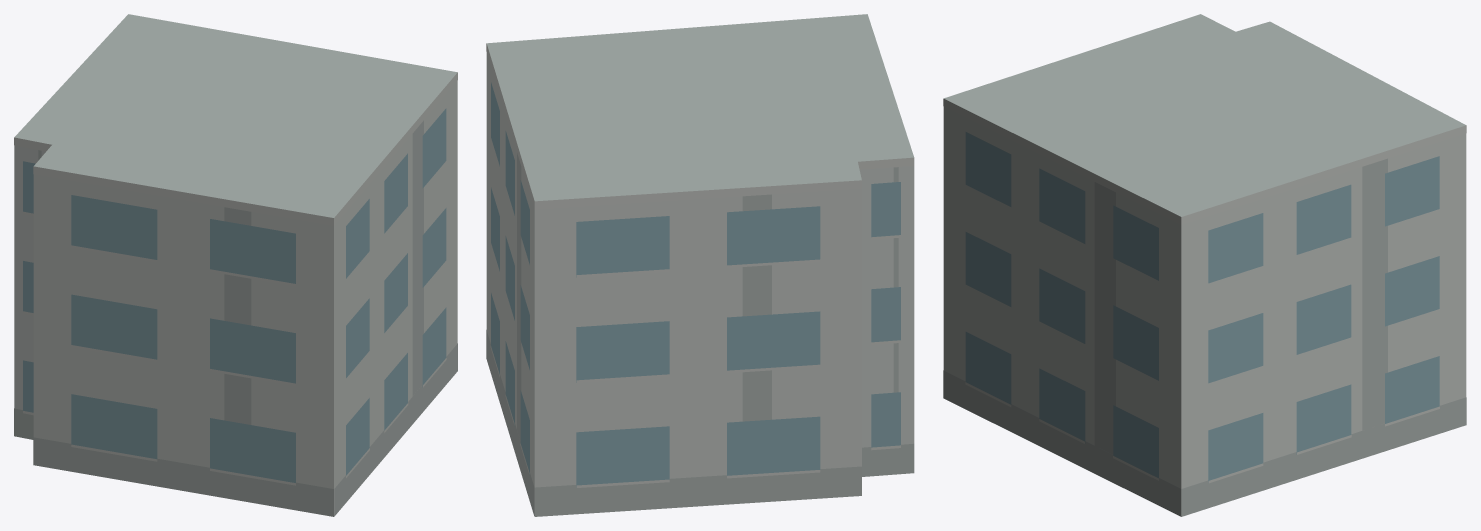
The model's file is residential-dbddb7b7-c1d4-468e-8ab3-2cfdf37b1fc1.glb.
The picture shows the model from 3 angles, left to right: view 1: azimuth 30°, elevation 25°; view 2: azimuth 150°, elevation 25°; view 3: azimuth 270°, elevation 25°; orthographic projection. The views are drawn at different scales.
Parts seen in each view (by area): view 1: residential-dbddb7b7-c1d4-468e-8ab3-2cfdf37b1fc1.tmp; view 2: residential-dbddb7b7-c1d4-468e-8ab3-2cfdf37b1fc1.tmp; view 3: residential-dbddb7b7-c1d4-468e-8ab3-2cfdf37b1fc1.tmp.
Boxes of the visible parts, x1,y1,x2,y2 form: residential-dbddb7b7-c1d4-468e-8ab3-2cfdf37b1fc1.tmp: [14, 14, 457, 516]; residential-dbddb7b7-c1d4-468e-8ab3-2cfdf37b1fc1.tmp: [486, 14, 914, 516]; residential-dbddb7b7-c1d4-468e-8ab3-2cfdf37b1fc1.tmp: [943, 14, 1466, 516].
Bounding box in the file's own units: 13.3 × 9.15 × 14.47.
